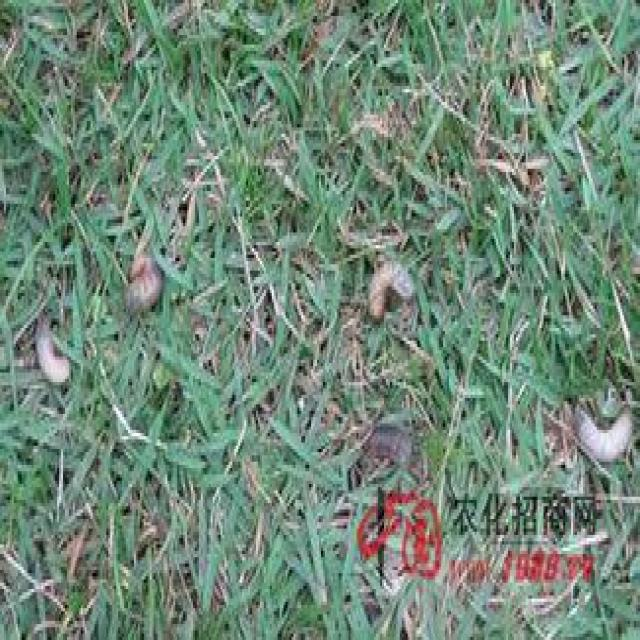Grub-Adult-: (361, 252, 427, 346), (25, 303, 79, 399), (570, 389, 638, 464), (113, 248, 166, 326)
